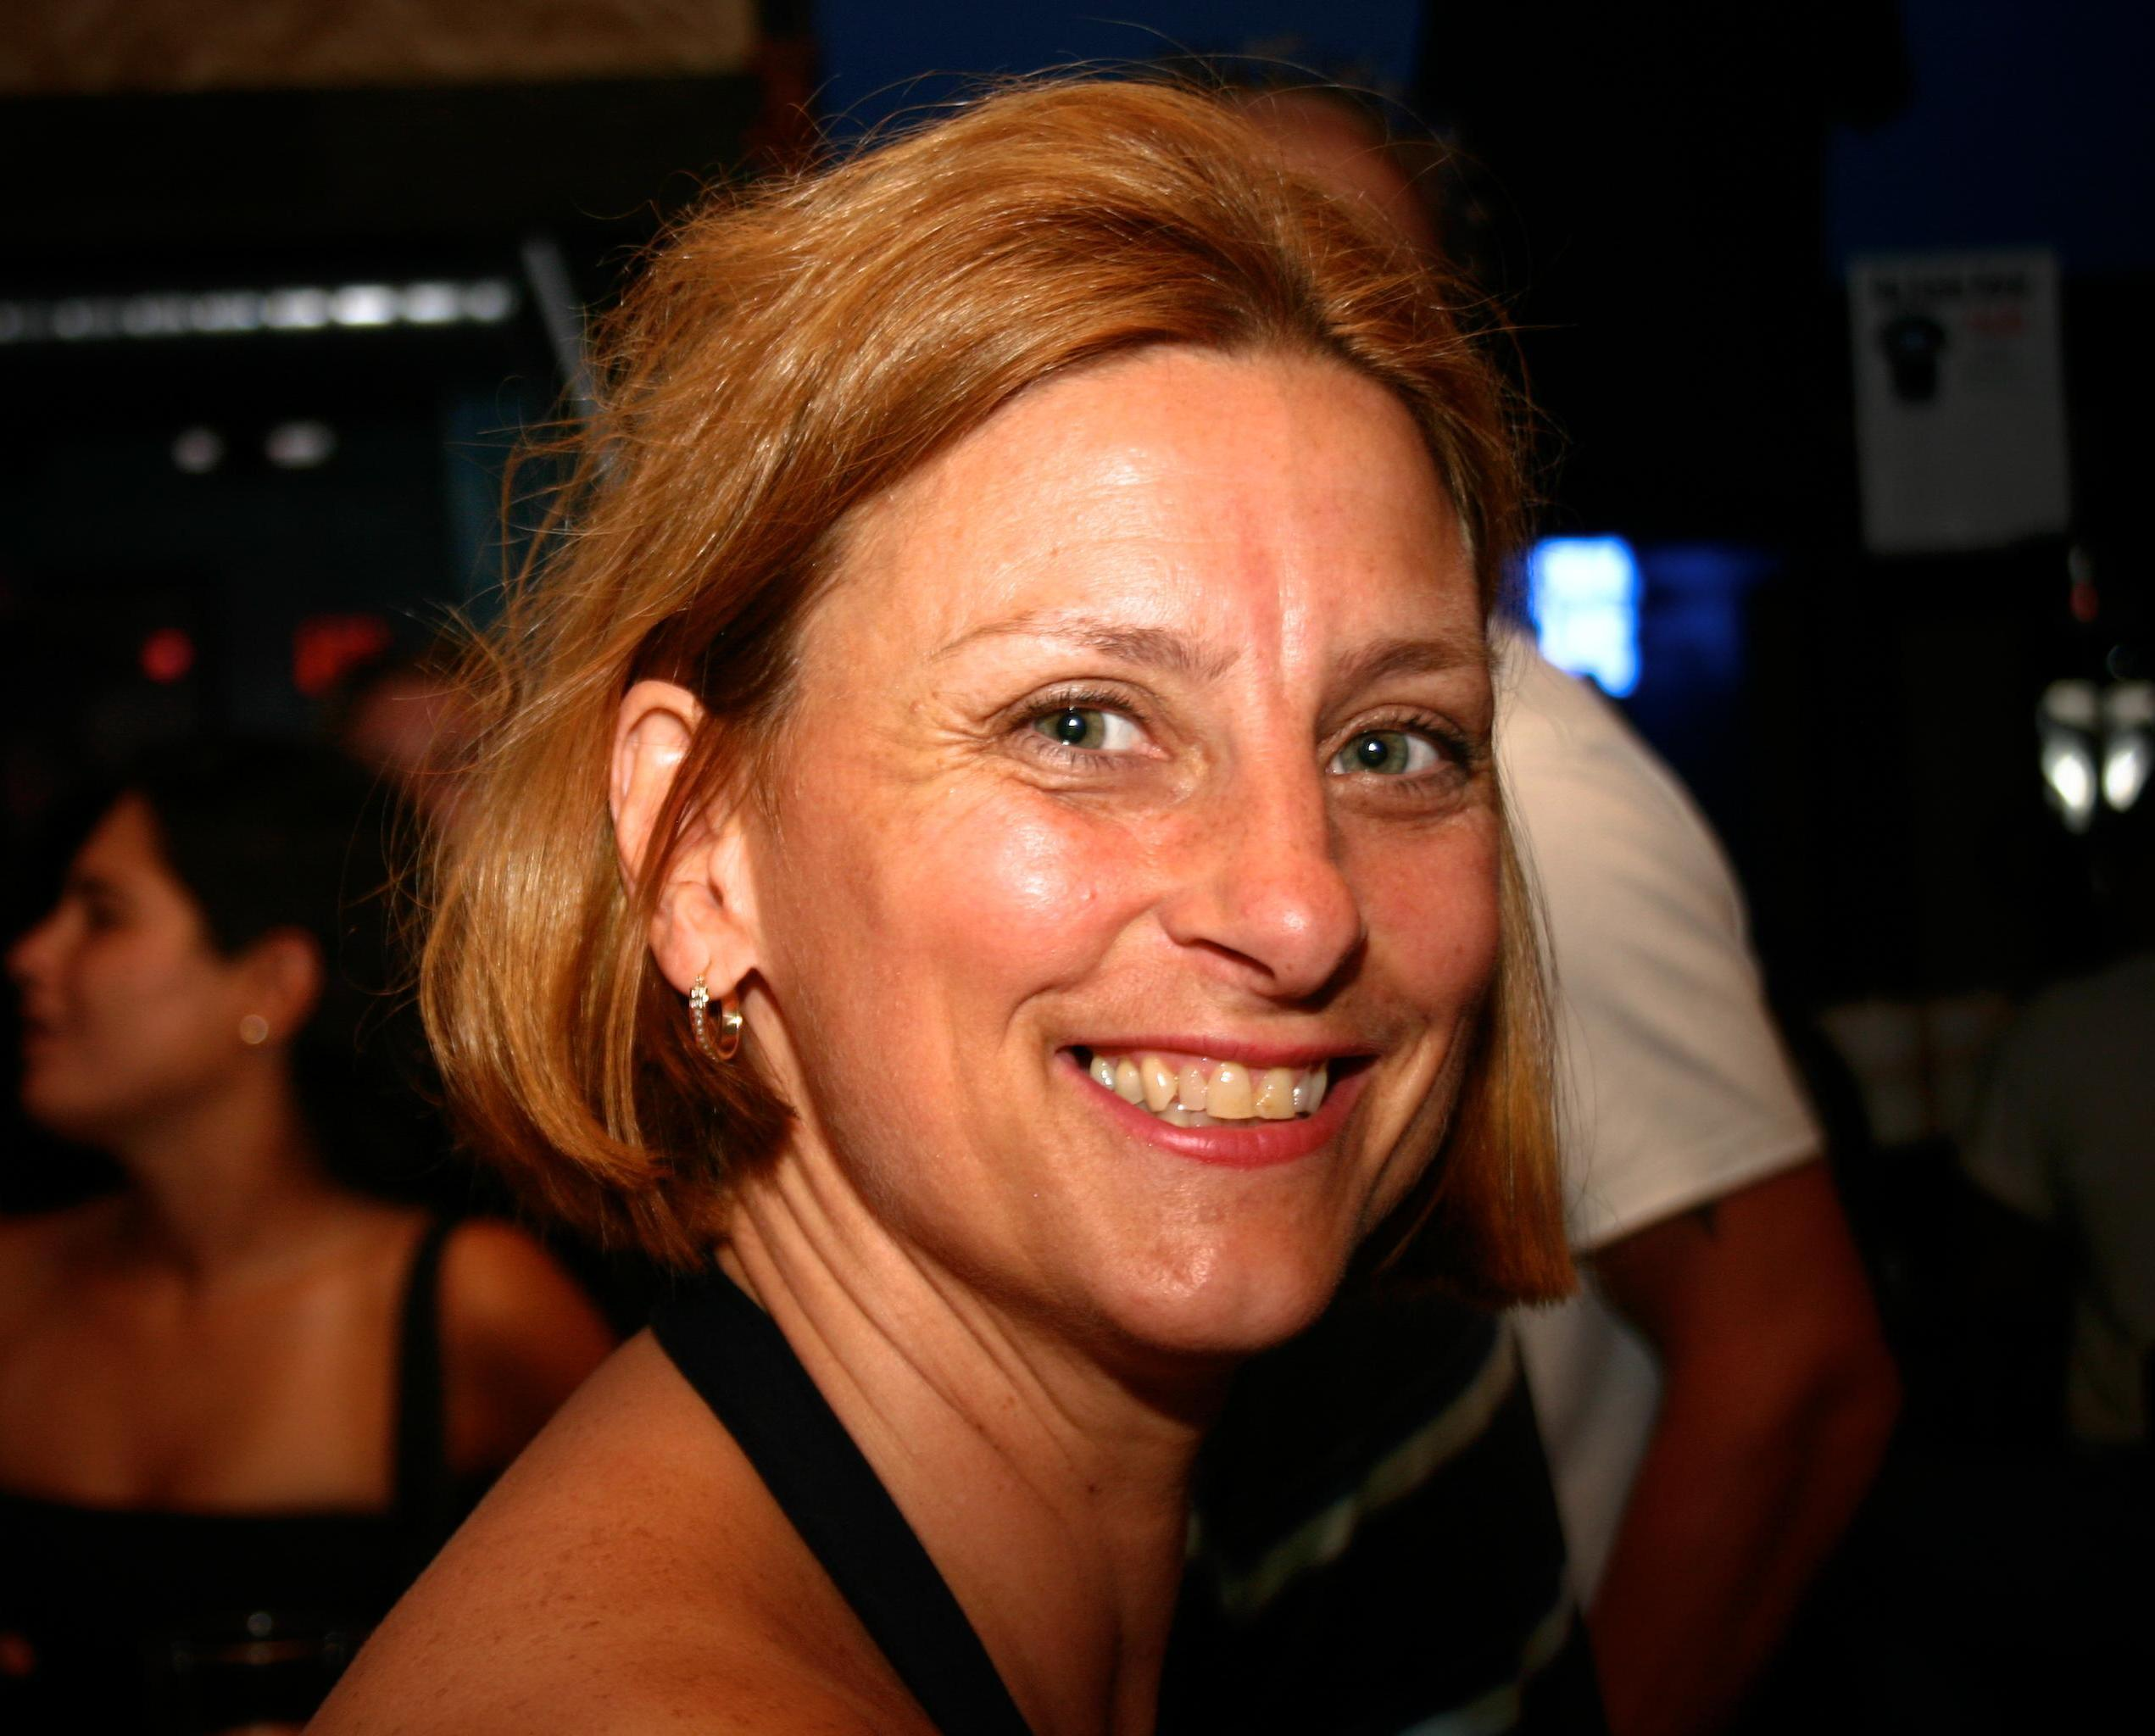Eyebags: (1016, 742, 1202, 818), (1326, 763, 1473, 849)
